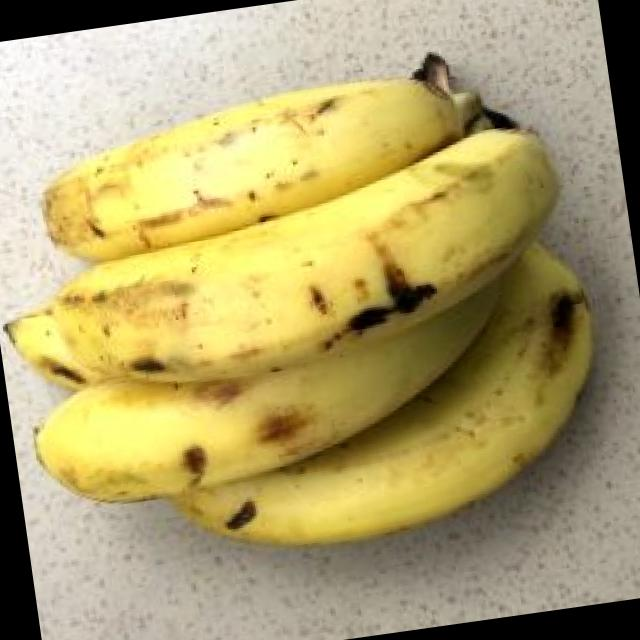banana: (133, 114, 589, 626)
